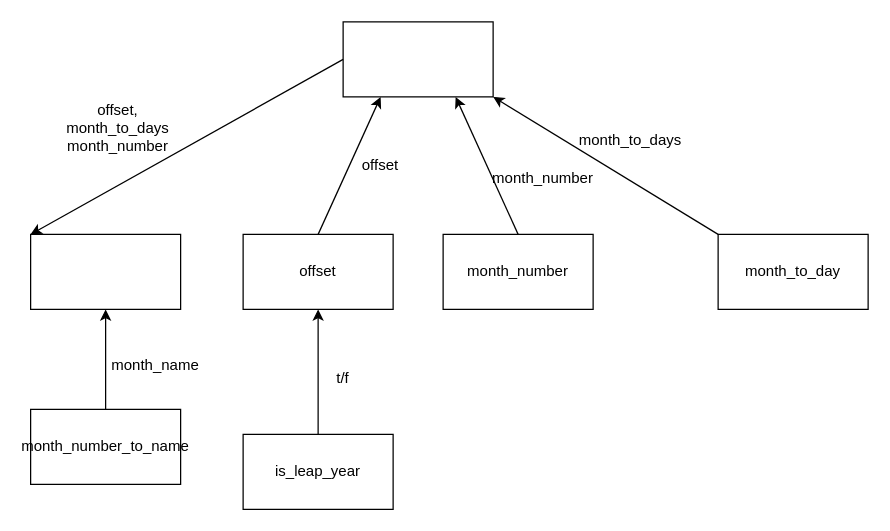
Image size: 890x531. Some labels were removed from this diagram. Here are the shapes that lost their labels. From the top down, the centre of each, then its label:
At pixel 417 59: "main".
At pixel 105 271: "display_calendar".
